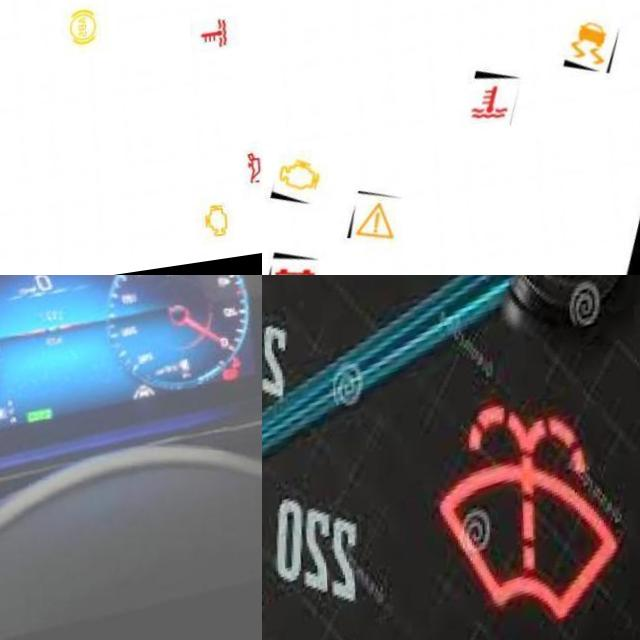Low fuel level: (168, 368, 185, 385)
Washer Fluid: (429, 406, 612, 640)
